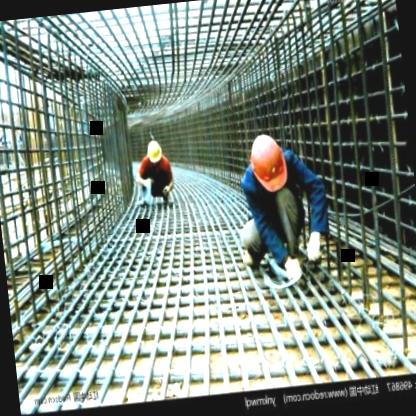helmet: (244, 127, 292, 208), (145, 138, 164, 166)
